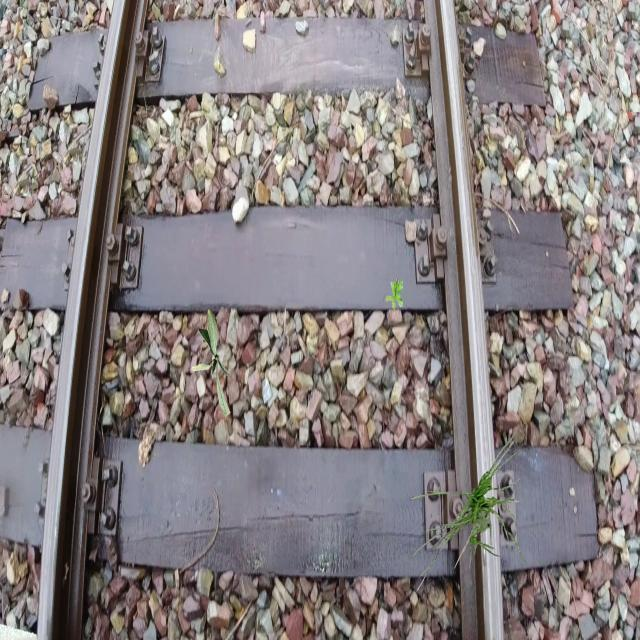Plant: (409, 429, 528, 592), (192, 308, 232, 418), (386, 278, 404, 310)
